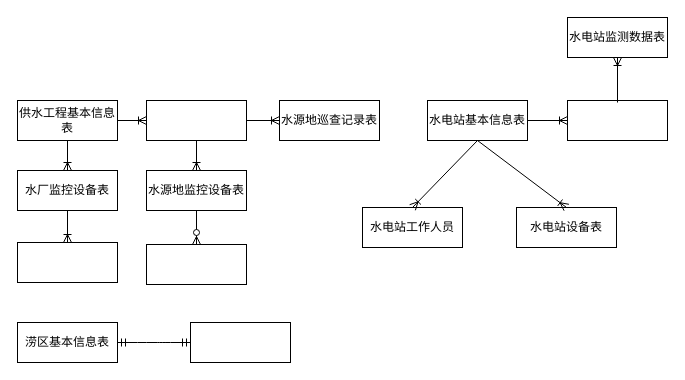
Some shapes in this 685 by 380 pixel diagram are drawn without their labels. Each missing label, with the centre of its shape:
水厂水监控数据表: (67,262)
水源地基本信息表: (196,120)
水源地监控数据表: (196,264)
水电站监测站点表: (617,120)
涝区运营单位信息: (240,342)
